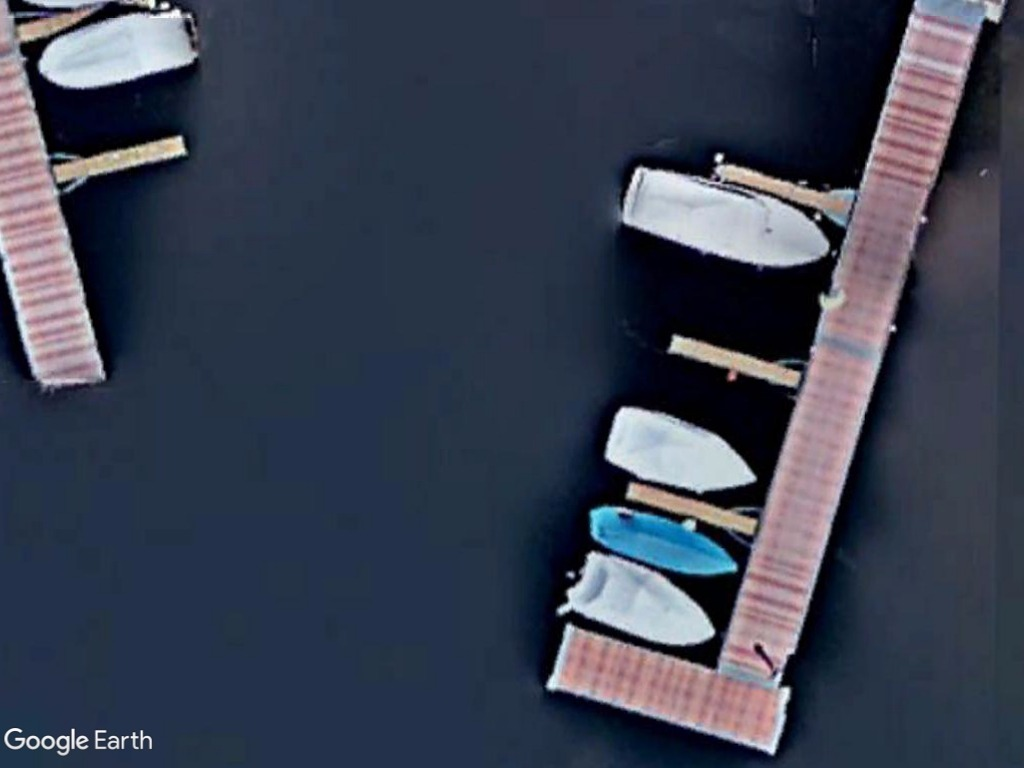boat: (622, 162, 836, 272), (555, 544, 719, 653), (594, 399, 760, 497), (30, 8, 195, 94), (581, 499, 741, 582)
